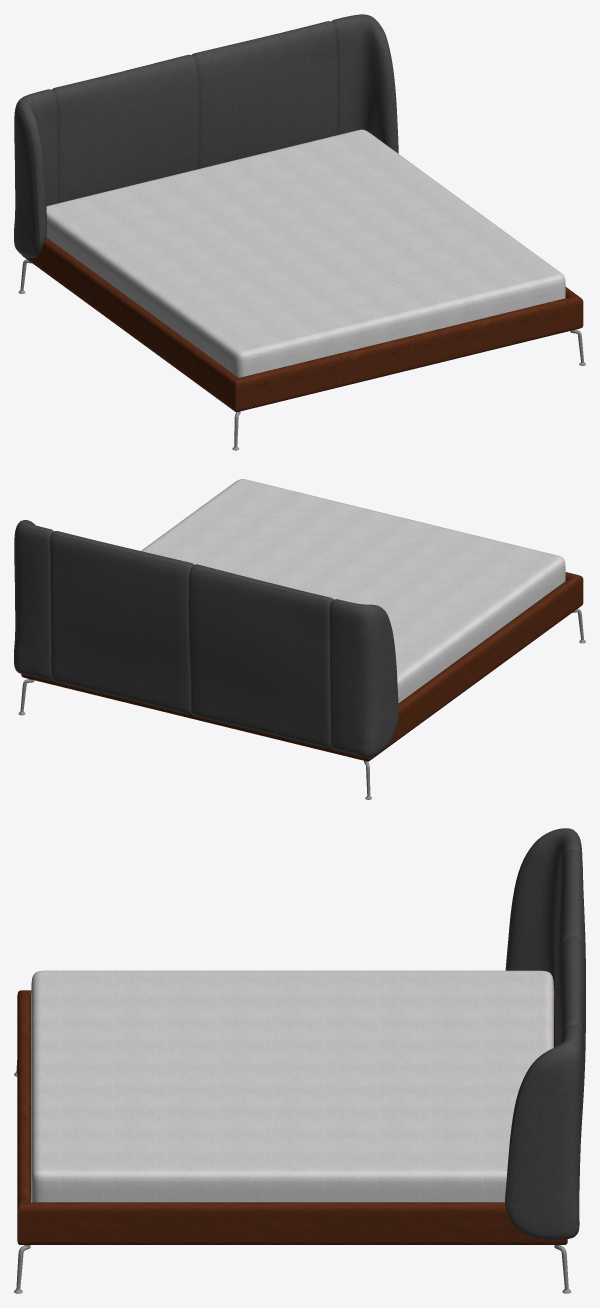
3 renders of one model, top to bottom at view 1: azimuth 30°, elevation 25°; view 2: azimuth 150°, elevation 25°; view 3: azimuth 270°, elevation 25°, orthographic. The views are drawn at different scales.
Visible parts, largest first — view 1: Mattress, Base; view 2: Base, Mattress; view 3: Mattress, Base.
Boxes of the visible parts, x1=… form: Mattress: x1=46, y1=129, x2=565, y2=377; Base: x1=14, y1=14, x2=585, y2=450; Base: x1=14, y1=520, x2=585, y2=799; Mattress: x1=141, y1=479, x2=565, y2=703; Mattress: x1=31, y1=970, x2=553, y2=1202; Base: x1=14, y1=828, x2=585, y2=1293.
Size of the model in its own units: 2.15 by 1.09 by 2.28.
Materials: 1 (1 with a texture image).
